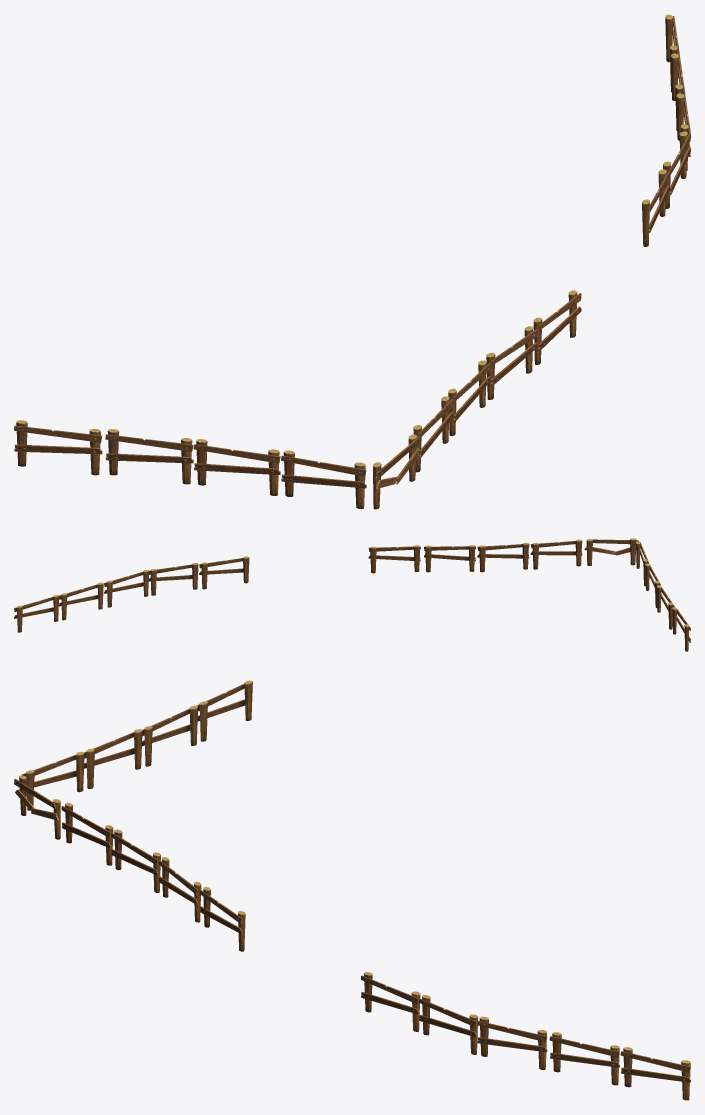
Rendered from Area_13_40.fbx.
3 renders of one model, top to bottom at view 1: azimuth 30°, elevation 25°; view 2: azimuth 150°, elevation 25°; view 3: azimuth 270°, elevation 25°, orthographic. The views are drawn at different scales.
Visible parts, largest first — view 1: Area_13_40; view 2: Area_13_40; view 3: Area_13_40.
Boxes of the visible parts, x1,y1,x2,y2 form: Area_13_40: (14, 14, 690, 509); Area_13_40: (14, 538, 690, 651); Area_13_40: (14, 680, 690, 1100).
Size of the model in its own units: 3054 by 144 by 2270.
